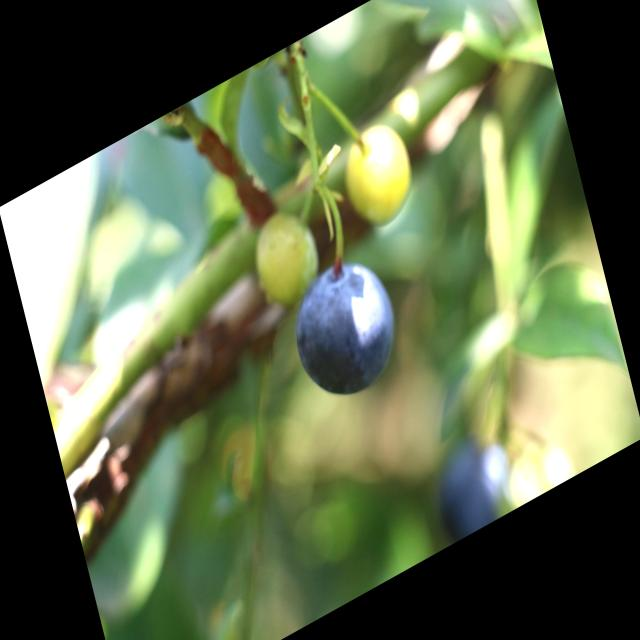blueberry: (278, 232, 412, 425), (422, 417, 528, 549)
blueberry-unripe: (338, 107, 423, 238), (246, 197, 325, 317)
